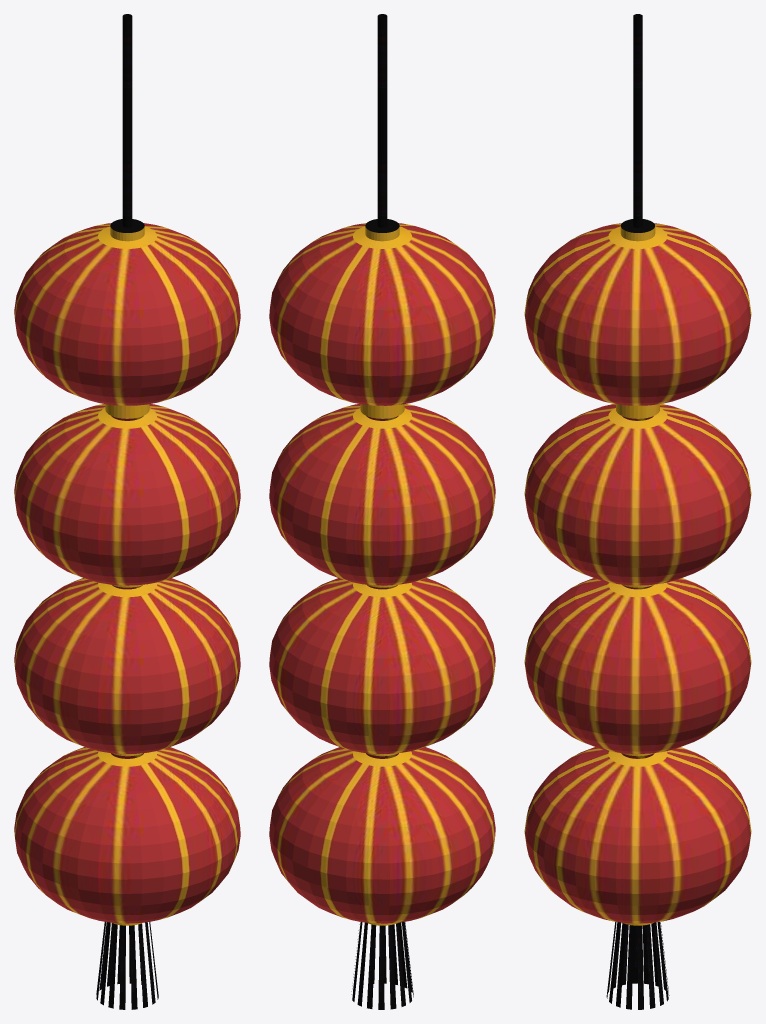
3 views of the same model, side by side, from view 1: azimuth 30°, elevation 25°; view 2: azimuth 150°, elevation 25°; view 3: azimuth 270°, elevation 25° (orthographic).
Parts seen in each view (by area): view 1: qingmo_obj_754 [10483628]; view 2: qingmo_obj_754 [10483628]; view 3: qingmo_obj_754 [10483628].
Boxes of the visible parts, <box> form: qingmo_obj_754 [10483628]: <box>14,14,240,1009</box>; qingmo_obj_754 [10483628]: <box>269,14,495,1009</box>; qingmo_obj_754 [10483628]: <box>524,14,751,1009</box>.
Bounding box in the file's own units: 6 × 6 × 28.6.
Materials: 1 (1 with a texture image).
